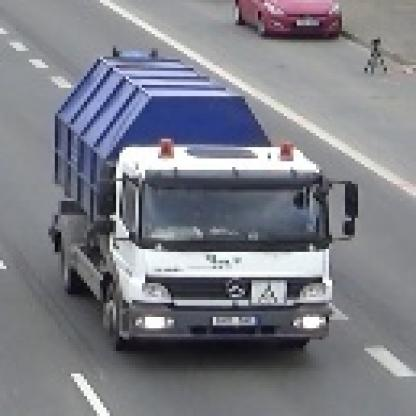truck: (40, 49, 356, 355)
